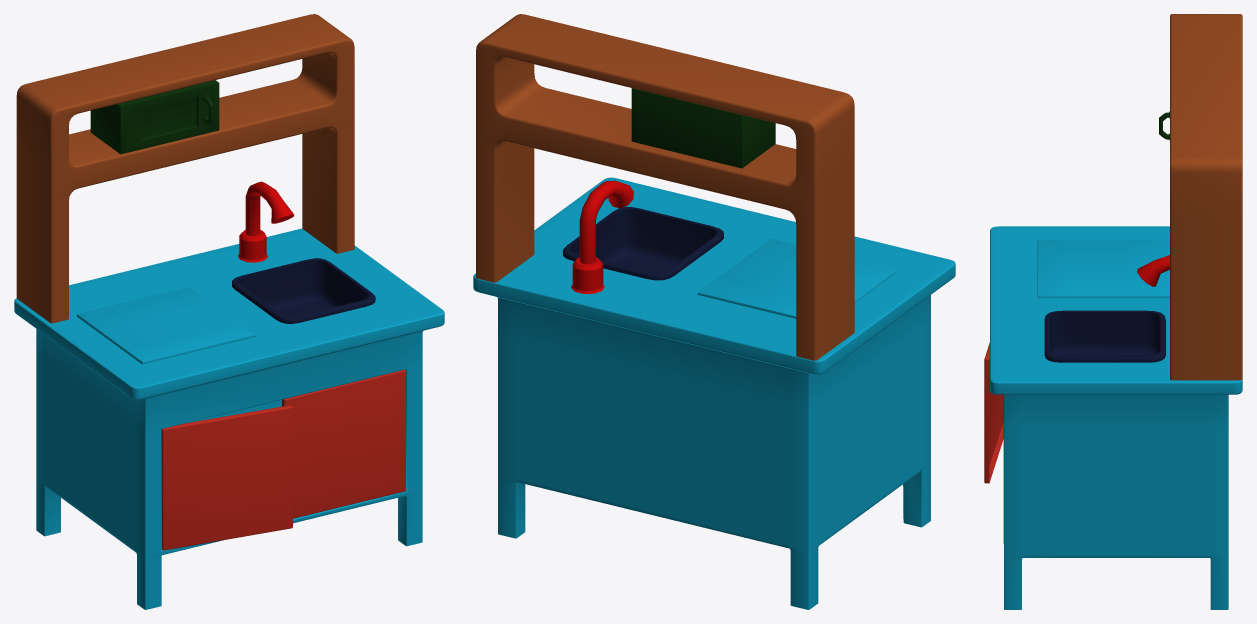
The model's file is Kitchen.fbx.
The picture shows the model from 3 angles, left to right: view 1: azimuth 30°, elevation 25°; view 2: azimuth 150°, elevation 25°; view 3: azimuth 270°, elevation 25°; orthographic projection. The views are drawn at different scales.
Visible parts, largest first — view 1: Kitchen; view 2: Kitchen; view 3: Kitchen.
Boxes of the visible parts, left/top/right/bottom form: Kitchen: left=14, top=14, right=444, bottom=609; Kitchen: left=473, top=14, right=955, bottom=609; Kitchen: left=984, top=14, right=1242, bottom=609.
Size of the model in its own units: 24.37 by 32.92 by 16.99.
